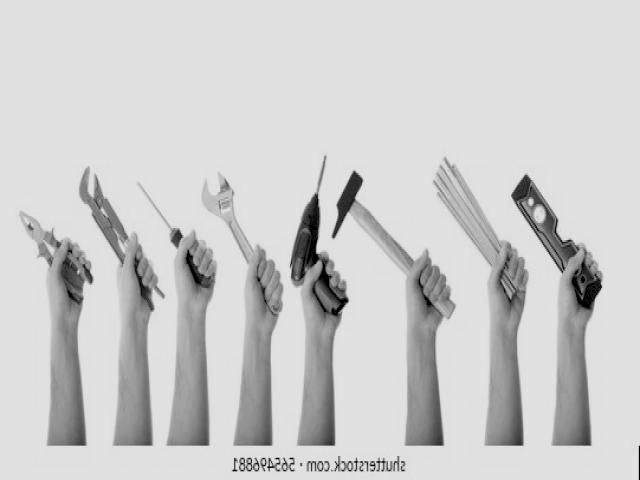Adjustable spanner: (202, 174, 252, 262)
Drill: (290, 156, 348, 317)
Gas wrench: (79, 167, 129, 264)
Hammer: (332, 172, 412, 274)
Hand: (169, 230, 216, 445), (554, 245, 603, 445), (234, 246, 282, 445), (46, 235, 91, 445), (298, 252, 346, 446), (115, 232, 158, 445), (486, 241, 529, 446), (406, 250, 450, 445)
Pliers: (19, 212, 93, 305)
Screwdriver: (138, 181, 213, 288)
